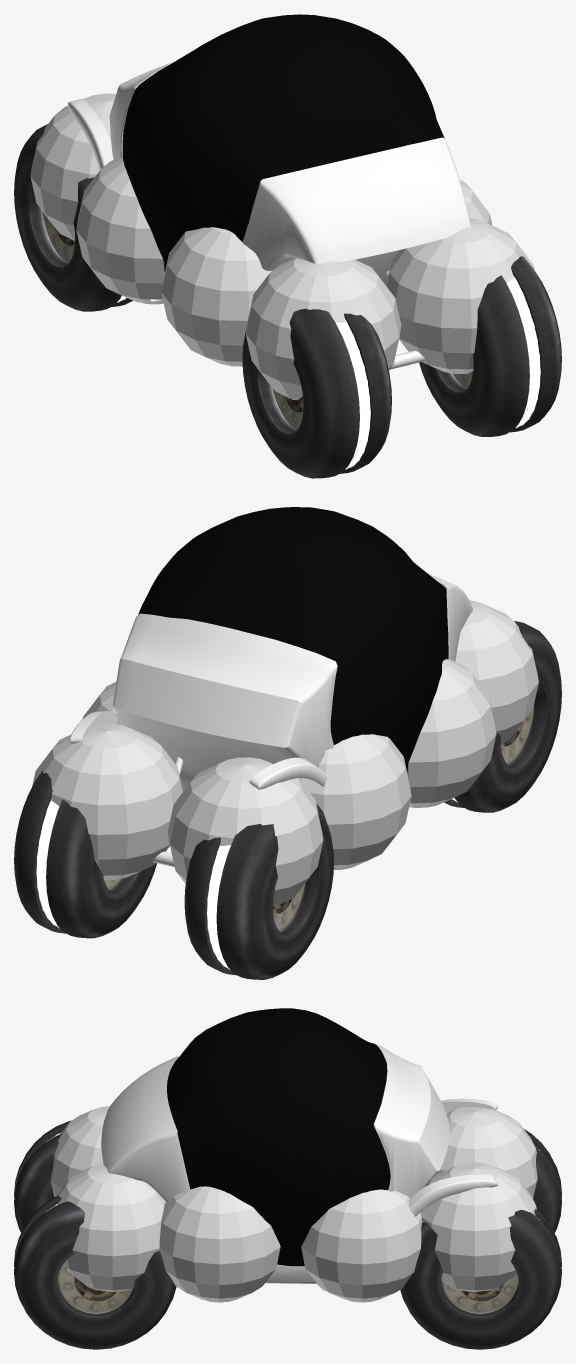
Rendered from car1.glb.
3 renders of one model, top to bottom at view 1: azimuth 30°, elevation 25°; view 2: azimuth 150°, elevation 25°; view 3: azimuth 270°, elevation 25°, orthographic. The views are drawn at different scales.
Parts seen in each view (by area): view 1: roof, body, wheelBL, wheelBR, Sphere.007, Sphere.008, Sphere.006, Sphere.004, wheelTL, Sphere.001, fender, Sphere.005; view 2: roof, body, wheelTL, Sphere.002, wheelTR, Sphere.001, Sphere.004, Sphere.006, wheelBL, Sphere.008, fender; view 3: roof, body, wheelBR, wheelTR, Sphere.005, Sphere.003, Sphere.007, Sphere.002, Sphere.001, Sphere.008, wheelBL, fender (+1 smaller).
Boxes of the visible parts, bbox=[...] form: roof: bbox=[122, 14, 444, 271]; body: bbox=[109, 59, 470, 285]; wheelBL: bbox=[242, 308, 391, 478]; wheelBR: bbox=[419, 256, 561, 436]; Sphere.007: bbox=[386, 218, 534, 373]; Sphere.008: bbox=[245, 258, 401, 399]; Sphere.006: bbox=[161, 227, 271, 366]; Sphere.004: bbox=[76, 157, 164, 304]; wheelTL: bbox=[14, 124, 132, 311]; Sphere.001: bbox=[30, 93, 115, 240]; fender: bbox=[68, 99, 162, 301]; Sphere.005: bbox=[460, 180, 492, 225]; roof: bbox=[138, 507, 448, 772]; body: bbox=[113, 573, 472, 791]; wheelTL: bbox=[184, 804, 334, 979]; Sphere.002: bbox=[32, 723, 182, 880]; wheelTR: bbox=[14, 770, 156, 938]; Sphere.001: bbox=[167, 757, 323, 906]; Sphere.004: bbox=[298, 734, 411, 869]; Sphere.006: bbox=[407, 659, 496, 807]; wheelBL: bbox=[444, 621, 561, 812]; Sphere.008: bbox=[455, 600, 538, 743]; fender: bbox=[69, 711, 336, 869]; roof: bbox=[167, 1008, 390, 1266]; body: bbox=[101, 1043, 449, 1283]; wheelBR: bbox=[14, 1195, 176, 1349]; wheelTR: bbox=[400, 1209, 561, 1349]; Sphere.005: bbox=[159, 1186, 280, 1302]; Sphere.003: bbox=[301, 1189, 421, 1302]; Sphere.007: bbox=[56, 1163, 165, 1291]; Sphere.002: bbox=[420, 1162, 536, 1291]; Sphere.001: bbox=[425, 1107, 537, 1198]; Sphere.008: bbox=[50, 1106, 109, 1196]; wheelBL: bbox=[14, 1120, 71, 1232]; fender: bbox=[320, 1098, 497, 1290].
Size of what is drawn, in the model's own units: 2.31 by 2.39 by 4.15.
3 materials, 1 textured.
